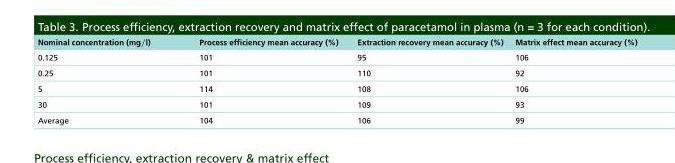table: (36, 36, 636, 124)
table column: (174, 36, 347, 124), (347, 36, 508, 124), (36, 36, 174, 124), (508, 36, 636, 124)
table column header: (36, 36, 636, 49)
table row: (36, 64, 636, 80), (36, 80, 636, 96), (36, 49, 636, 64), (36, 96, 636, 111), (36, 36, 636, 49), (36, 111, 636, 124)
